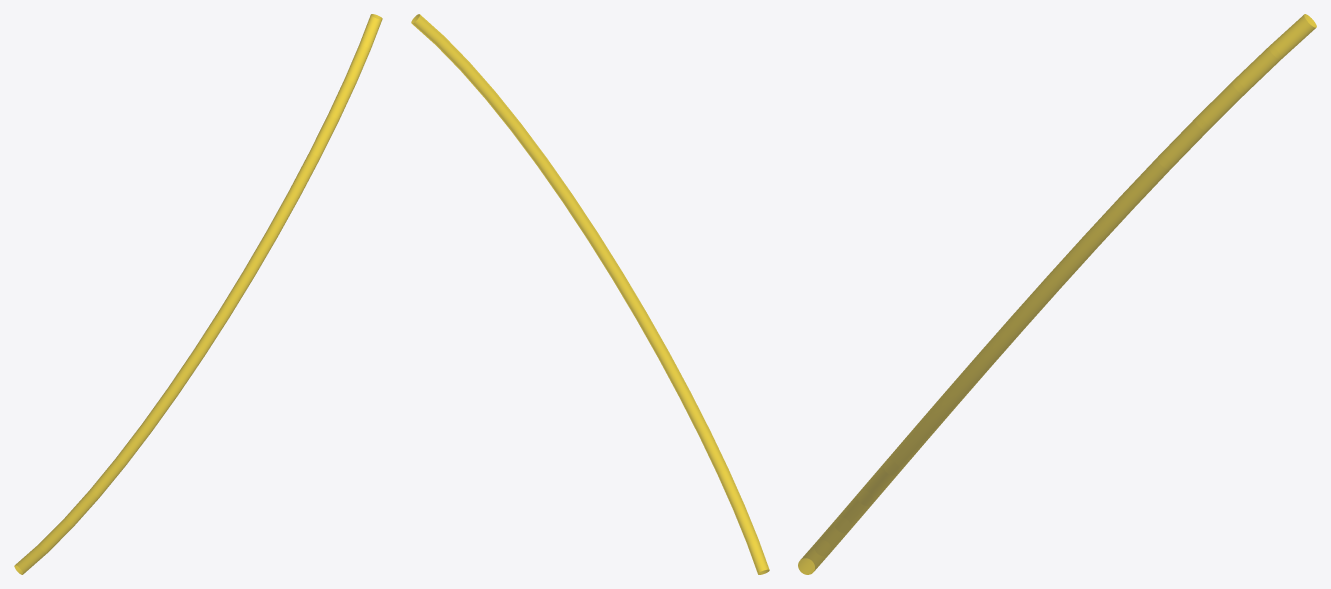
File: Event_27938768_track_34.fbx
3 views of the same model, side by side, from view 1: azimuth 30°, elevation 25°; view 2: azimuth 150°, elevation 25°; view 3: azimuth 330°, elevation 25° (orthographic). The views are drawn at different scales.
Parts seen in each view (by area): view 1: Model; view 2: Model; view 3: Model.
Boxes of the visible parts, x1,y1,x2,y2 form: Model: (14,14,382,574); Model: (411,14,769,574); Model: (798,14,1316,574).
Size of the model in its own units: 1.33 by 1.67 by 0.2229.
